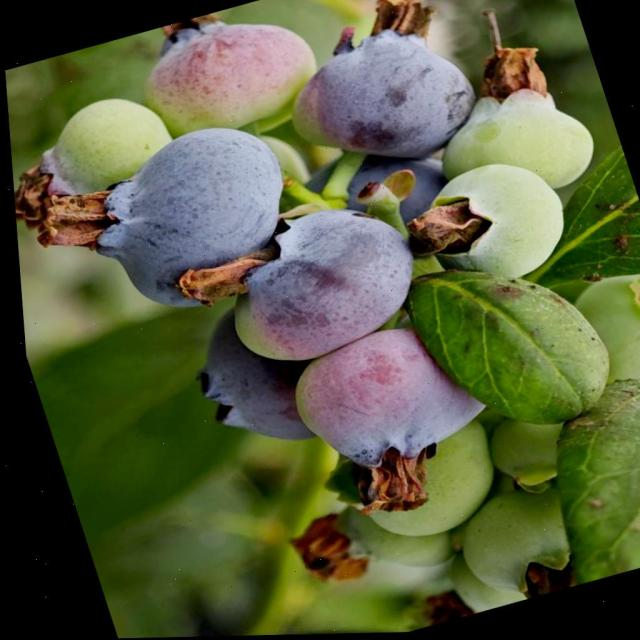RipeBlueBerry: (44, 109, 318, 335), (266, 14, 489, 188)
Semi-RipeBlueBerry: (192, 194, 435, 380), (269, 313, 504, 498), (128, 0, 334, 155)
UnripeBlueBerry: (396, 147, 583, 305), (422, 68, 604, 219), (557, 260, 640, 405)
